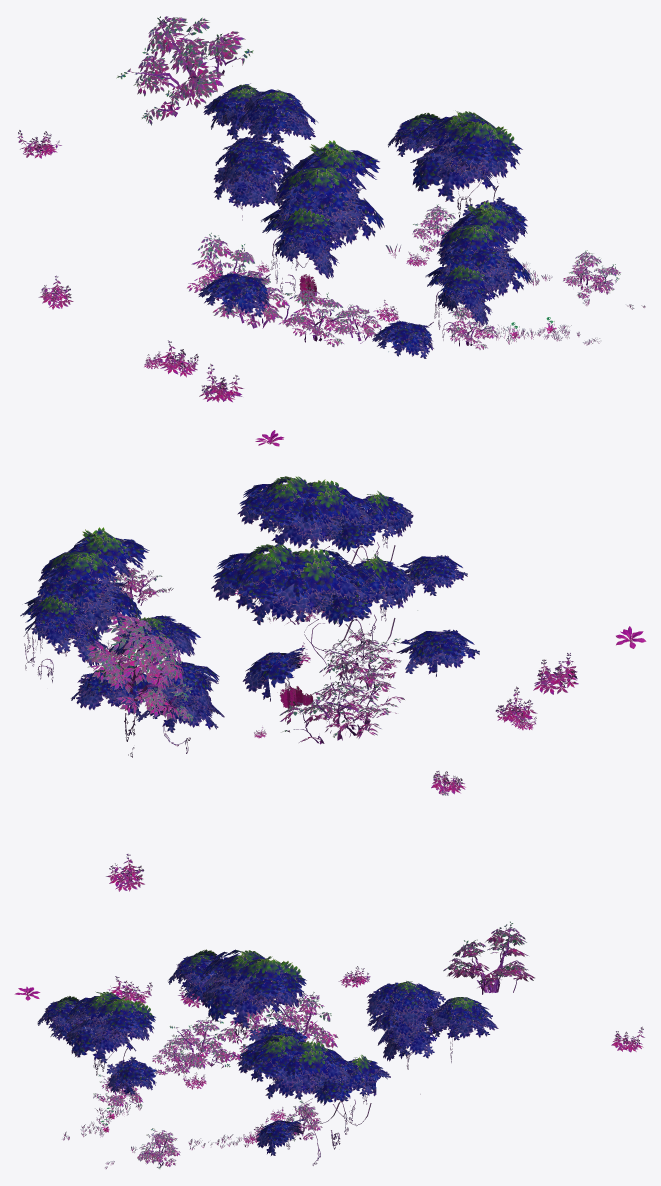
File: boss2_zhibei_1.fbx
3 renders of one model, top to bottom at view 1: azimuth 30°, elevation 25°; view 2: azimuth 150°, elevation 25°; view 3: azimuth 270°, elevation 25°, orthographic. The views are drawn at different scales.
Parts seen in each view (by area): view 1: boss2_zhibei_1; view 2: boss2_zhibei_1; view 3: boss2_zhibei_1.
Part boxes in pixels (x1=…): boss2_zhibei_1: x1=17, y1=16, x2=645, y2=446; boss2_zhibei_1: x1=20, y1=476, x2=646, y2=891; boss2_zhibei_1: x1=14, y1=921, x2=644, y2=1168.
Size of the model in its own units: 3820 by 1487 by 5344.
